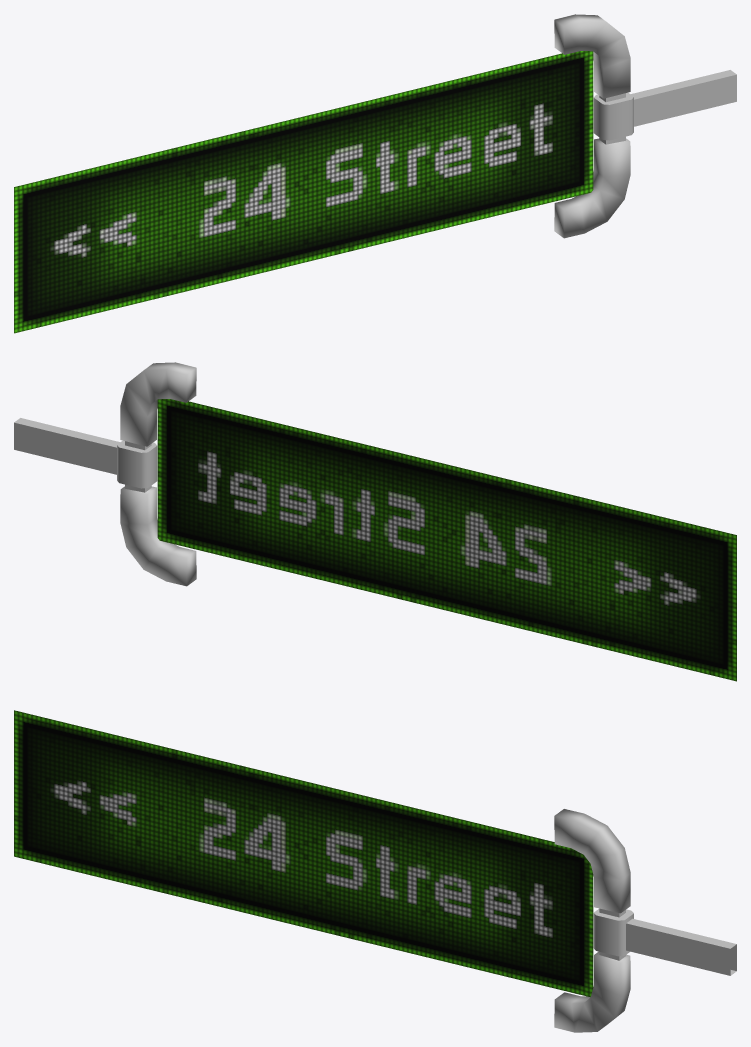
The model's file is Streetlight3.fbx.
The picture shows the model from 3 angles, top to bottom: view 1: azimuth 30°, elevation 25°; view 2: azimuth 150°, elevation 25°; view 3: azimuth 330°, elevation 25°; orthographic projection.
Parts seen in each view (by area): view 1: polySurface358; view 2: polySurface358; view 3: polySurface358.
Boxes of the visible parts, bbox=[...] form: polySurface358: bbox=[14, 14, 736, 333]; polySurface358: bbox=[14, 362, 736, 681]; polySurface358: bbox=[14, 710, 736, 1032].
Size of the model in its own units: 0.8622 by 0.2425 by 0.0284.
